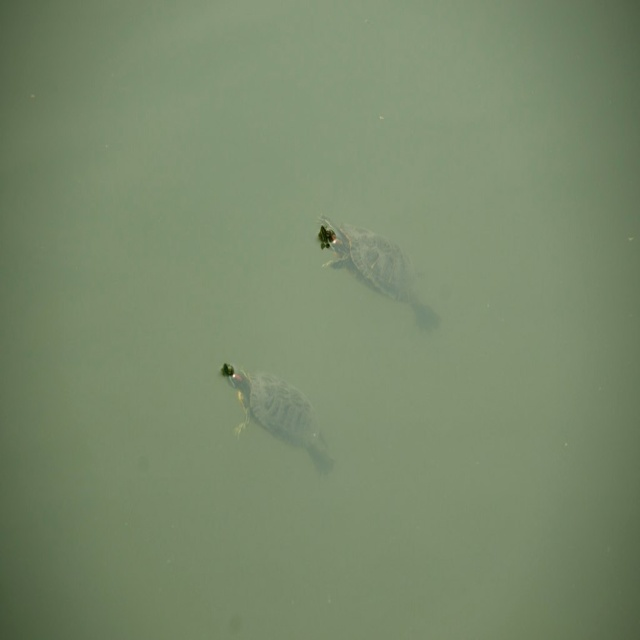Sea turtle: (216, 353, 341, 485), (316, 217, 439, 335)
